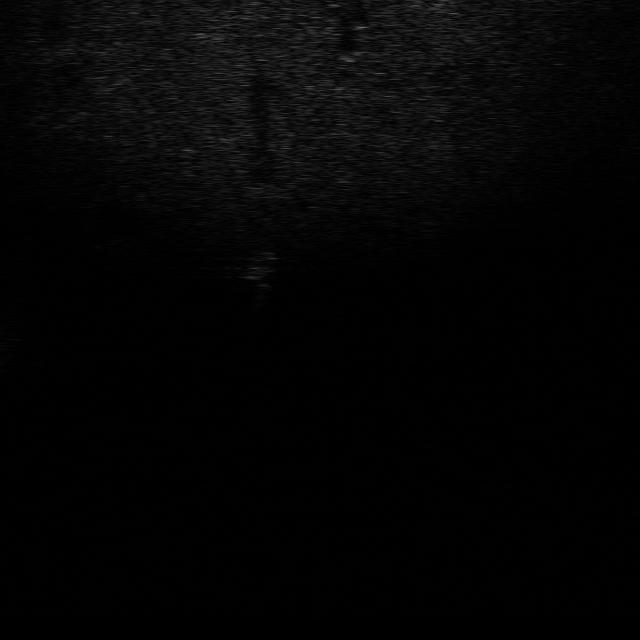human body: (238, 248, 278, 316)
